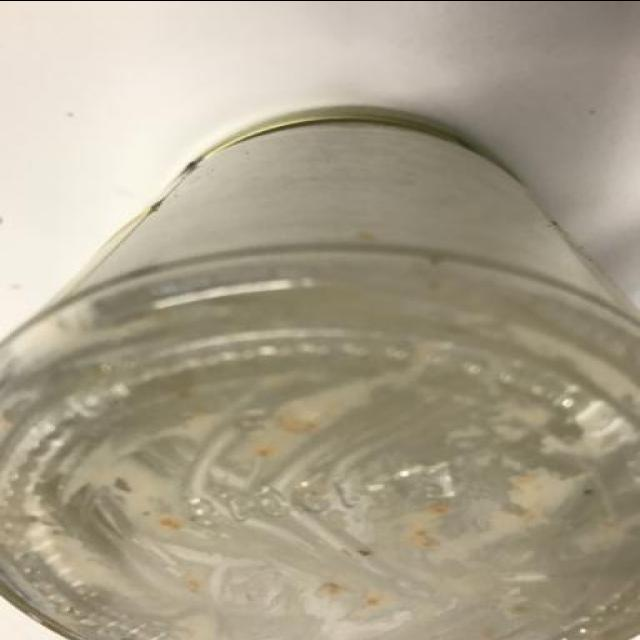litter: (2, 104, 636, 638)
